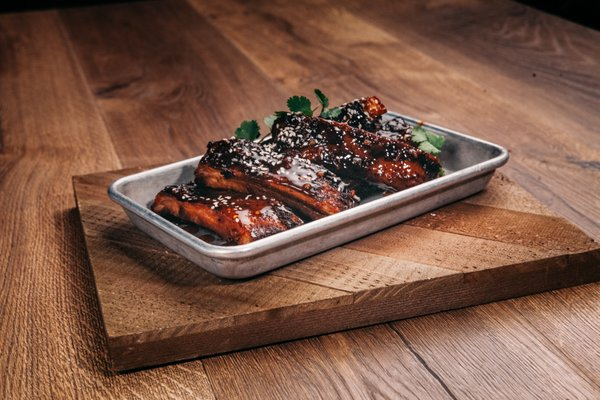curry: (1, 1, 592, 383)
